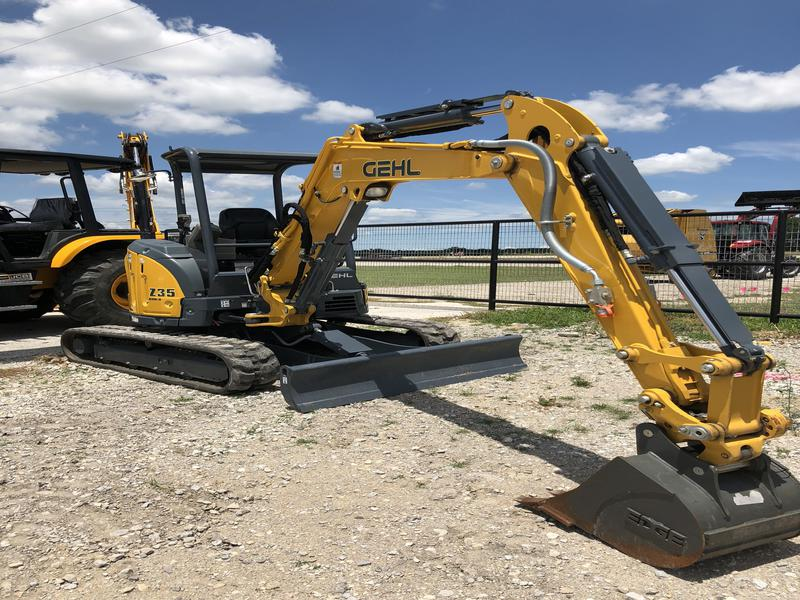shovel: (123, 84, 800, 572)
